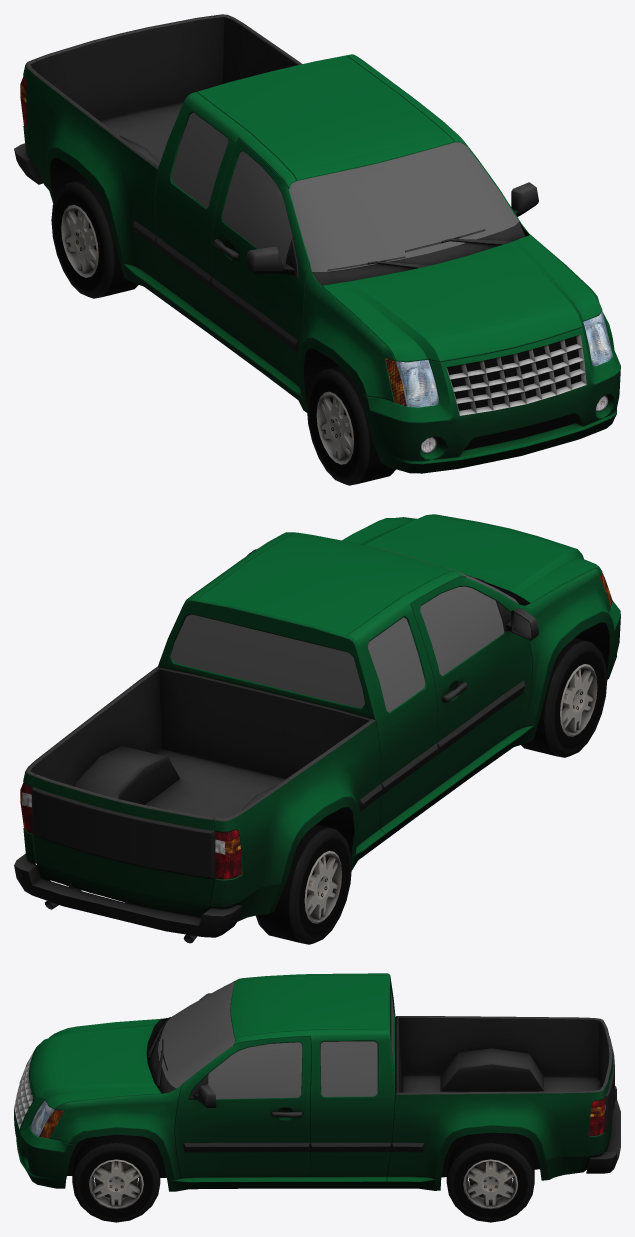
Rendered from pickup.glb.
3 views of the same model, one above another, from view 1: azimuth 30°, elevation 25°; view 2: azimuth 150°, elevation 25°; view 3: azimuth 270°, elevation 25° (orthographic). The views are drawn at different scales.
Parts seen in each view (by area): view 1: Pickup Body, Wheel_E002, Wheel_E003; view 2: Pickup Body, Wheel_E003, Wheel_E002; view 3: Pickup Body, Wheel_E001, Wheel_E.
Boxes of the visible parts, box(x1,y1,x2,y2) form: Pickup Body: box(14, 14, 620, 473); Wheel_E002: box(306, 366, 395, 485); Wheel_E003: box(51, 178, 138, 298); Pickup Body: box(14, 514, 620, 943); Wheel_E003: box(256, 824, 351, 944); Wheel_E002: box(521, 638, 607, 757); Pickup Body: box(14, 973, 620, 1191); Wheel_E001: box(446, 1132, 534, 1222); Wheel_E: box(72, 1134, 160, 1222).
Size of the model in its own units: 2.33 by 1.91 by 5.83.
Materials: 4 (3 with a texture image).
